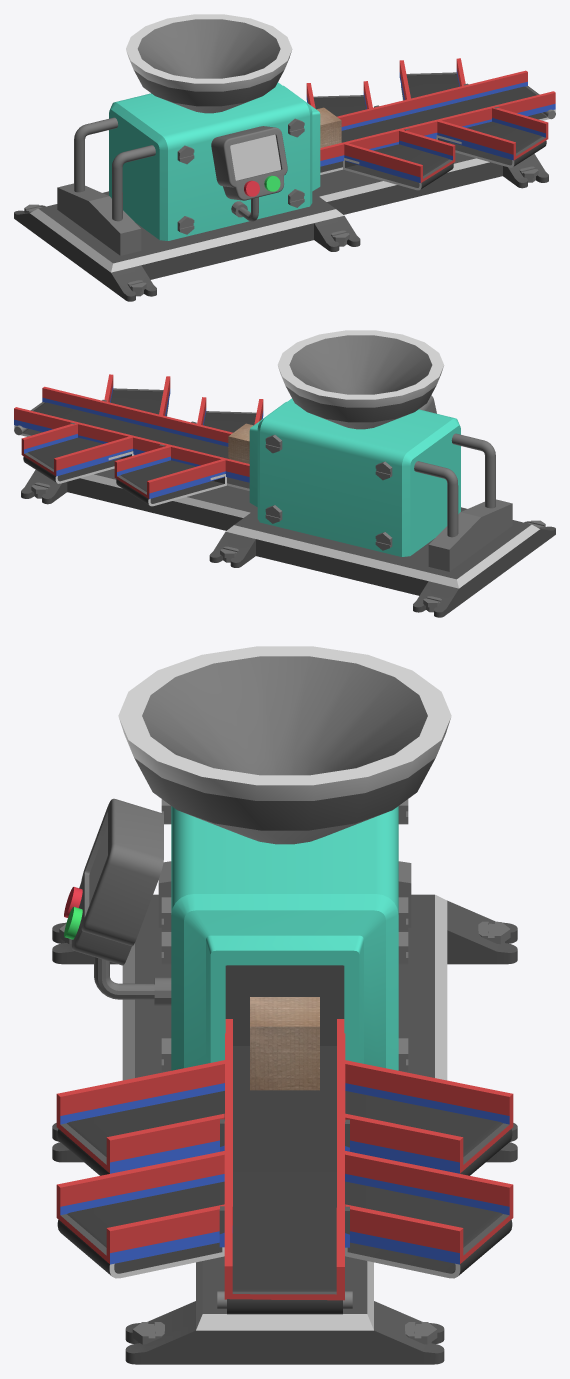
Rendered from ayrictiriciMakina.fbx.
The picture shows the model from 3 angles, top to bottom: view 1: azimuth 30°, elevation 25°; view 2: azimuth 150°, elevation 25°; view 3: azimuth 270°, elevation 25°; orthographic projection. The views are drawn at different scales.
Parts seen in each view (by area): view 1: govde, ustHuni, makinaAlt, uzunRay, borular, ekran, makinaAlt.001, kizak1, ayak, ray2, ray5, kizak4 (+8 smaller); view 2: govde, ustHuni, makinaAlt, uzunRay, borular, makinaAlt.001, kizak1, ayak, ray3, ray4, kizak5.001, kizak3 (+7 smaller); view 3: ustHuni, govde, kizak1, makinaAlt, ekran, makinaAlt.001, ray4, ray5, ray2, ray3, ayak.001, kutu (+8 smaller).
Part boxes in pixels (<box>): govde: <box>109,82,320,240</box>; ustHuni: <box>126,14,292,113</box>; makinaAlt: <box>29,191,343,289</box>; uzunRay: <box>320,70,555,166</box>; borular: <box>57,117,155,255</box>; ekran: <box>211,126,287,221</box>; makinaAlt.001: <box>312,152,502,214</box>; kizak1: <box>320,86,555,174</box>; ayak: <box>14,204,360,301</box>; ray2: <box>344,130,455,182</box>; ray5: <box>437,108,548,160</box>; kizak4: <box>343,144,453,190</box>; govde: <box>249,398,460,556</box>; ustHuni: <box>277,330,443,429</box>; makinaAlt: <box>226,507,540,605</box>; uzunRay: <box>14,386,249,482</box>; borular: <box>414,433,512,571</box>; makinaAlt.001: <box>67,468,257,530</box>; kizak1: <box>14,402,249,490</box>; ayak: <box>209,520,555,617</box>; ray3: <box>114,446,225,499</box>; ray4: <box>21,423,132,476</box>; kizak5.001: <box>116,460,226,506</box>; kizak3: <box>23,437,133,483</box>; ustHuni: <box>118,646,451,844</box>; govde: <box>171,806,398,1070</box>; kizak1: <box>227,1046,342,1314</box>; makinaAlt: <box>122,894,447,1080</box>; ekran: <box>71,798,171,1005</box>; makinaAlt.001: <box>196,1256,373,1364</box>; ray4: <box>345,1151,513,1264</box>; ray5: <box>56,1151,224,1264</box>; ray2: <box>56,1060,224,1173</box>; ray3: <box>345,1060,513,1173</box>; ayak.001: <box>125,1301,444,1364</box>; kutu: <box>250,997,319,1090</box>.
Size of the model in its own units: 3095 by 1112 by 1325.
